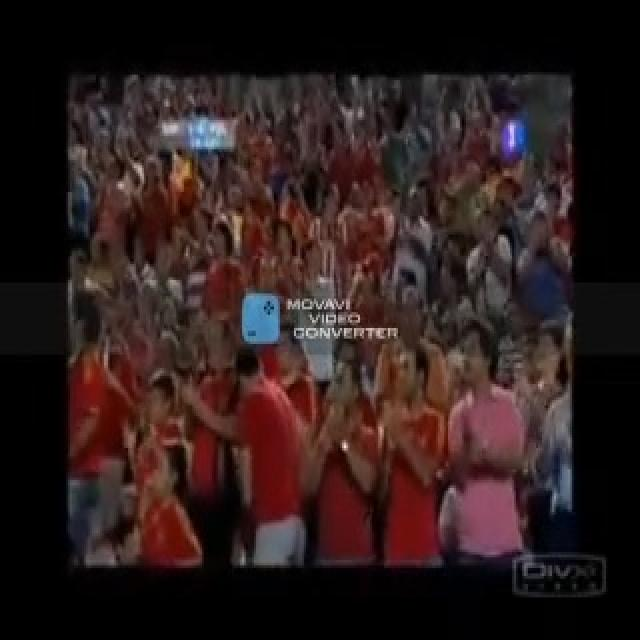non-voilence: (64, 69, 576, 568)
